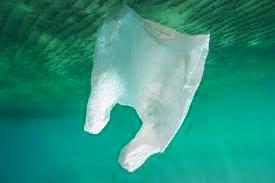Trash: (74, 10, 222, 169)
